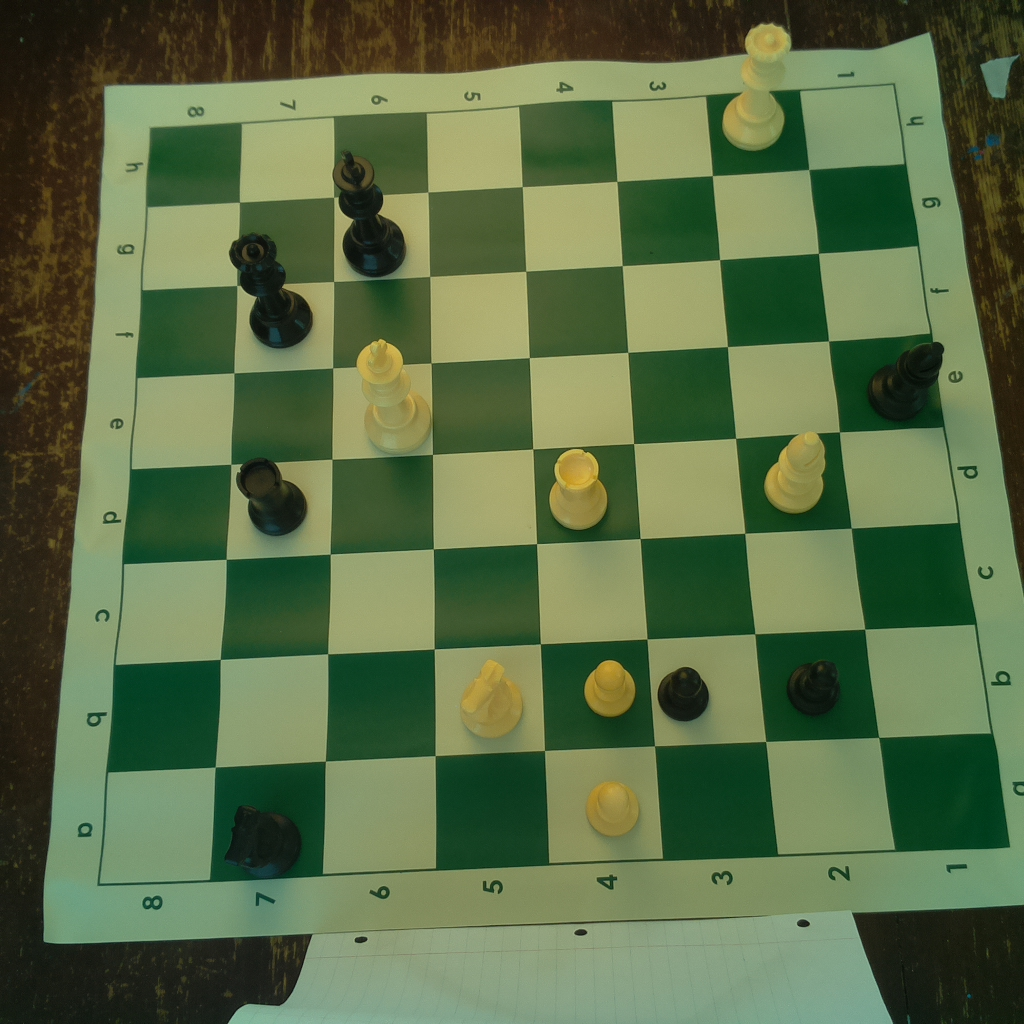black_bishop: (866, 339, 946, 422)
black_king: (327, 147, 407, 279)
black_knight: (212, 796, 306, 879)
black_pawn: (653, 657, 718, 725), (786, 654, 847, 725)
black_queen: (224, 231, 316, 352)
black_rook: (231, 454, 314, 543)
file_a: (98, 734, 1011, 891)
file_b: (106, 623, 993, 773)
file_c: (115, 522, 979, 665)
file_d: (121, 426, 960, 564)
file_e: (134, 334, 946, 473)
file_f: (138, 244, 931, 380)
file_g: (144, 162, 918, 287)
file_h: (147, 83, 906, 208)
outline: (94, 83, 1014, 888)
rank_1: (799, 84, 1011, 853)
rank_2: (707, 91, 897, 857)
rank_3: (614, 96, 781, 858)
rank_4: (519, 100, 664, 864)
rank_5: (428, 108, 550, 869)
rank_6: (319, 115, 436, 874)
rank_7: (208, 115, 334, 887)
rank_8: (98, 122, 241, 886)
white_bishop: (762, 427, 831, 517)
white_king: (350, 335, 436, 454)
white_knight: (451, 657, 527, 744)
white_pawn: (580, 774, 644, 839), (583, 656, 637, 721)
white_queen: (718, 22, 794, 153)
white_rook: (537, 445, 611, 531)
